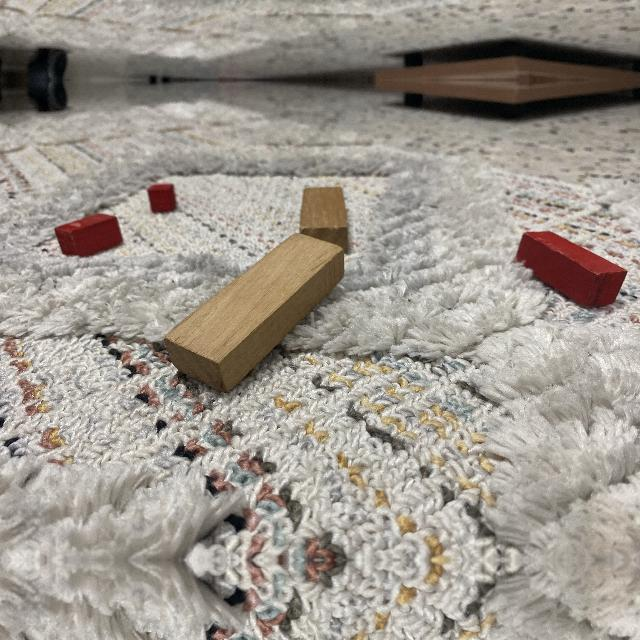jenga: (163, 232, 345, 393), (300, 187, 349, 255)
red block: (515, 231, 628, 311), (54, 212, 126, 260)
red cube: (145, 182, 179, 215)
